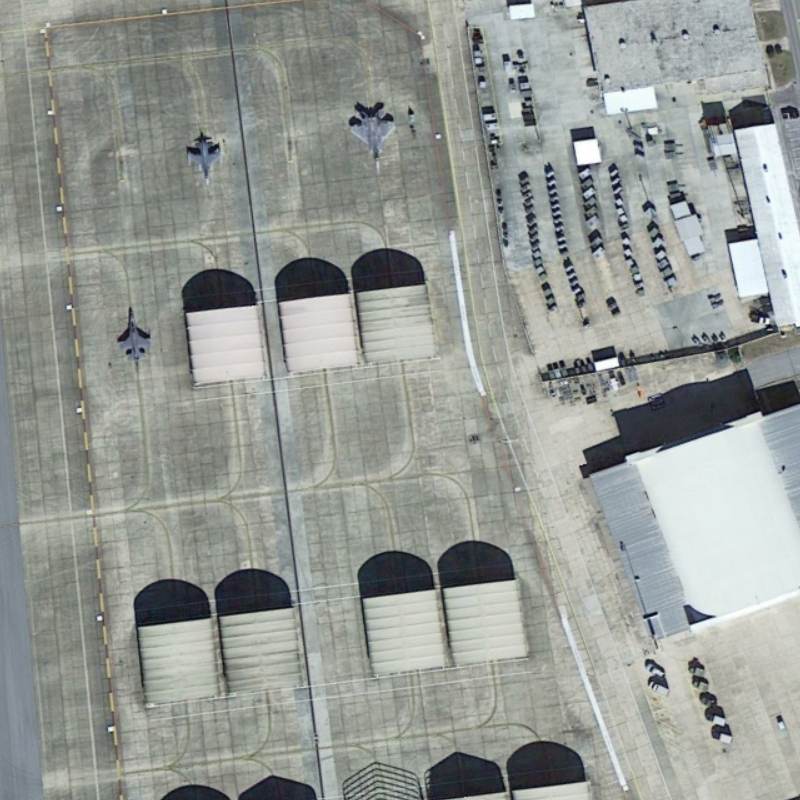A15: (346, 102, 404, 184)
A5: (183, 133, 224, 190), (116, 303, 154, 364)
